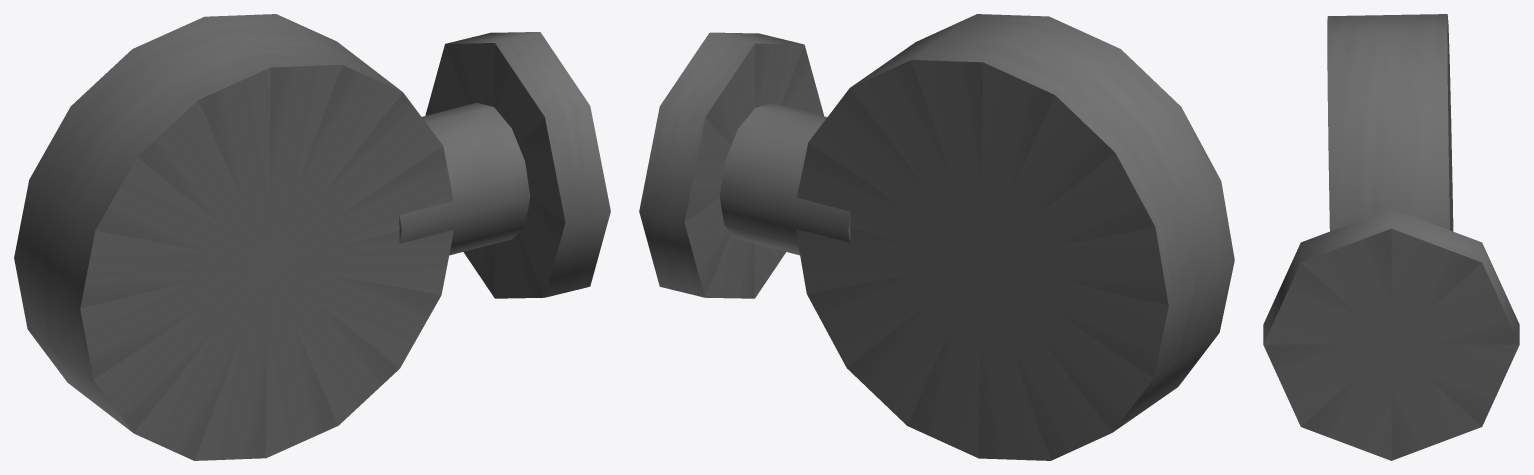
Rendered from mastarmcurve_10x2_c11_east.obj.
3 renders of one model, left to right at view 1: azimuth 30°, elevation 25°; view 2: azimuth 150°, elevation 25°; view 3: azimuth 270°, elevation 25°, orthographic. The views are drawn at different scales.
Parts seen in each view (by area): view 1: mastarm_10x2_c11_east; view 2: mastarm_10x2_c11_east; view 3: mastarm_10x2_c11_east.
Boxes of the visible parts, x1=… form: mastarm_10x2_c11_east: x1=14, y1=14, x2=610, y2=460; mastarm_10x2_c11_east: x1=639, y1=14, x2=1234, y2=460; mastarm_10x2_c11_east: x1=1263, y1=14, x2=1519, y2=460.
Size of the model in its own units: 0.8075 by 0.6199 by 0.4.
